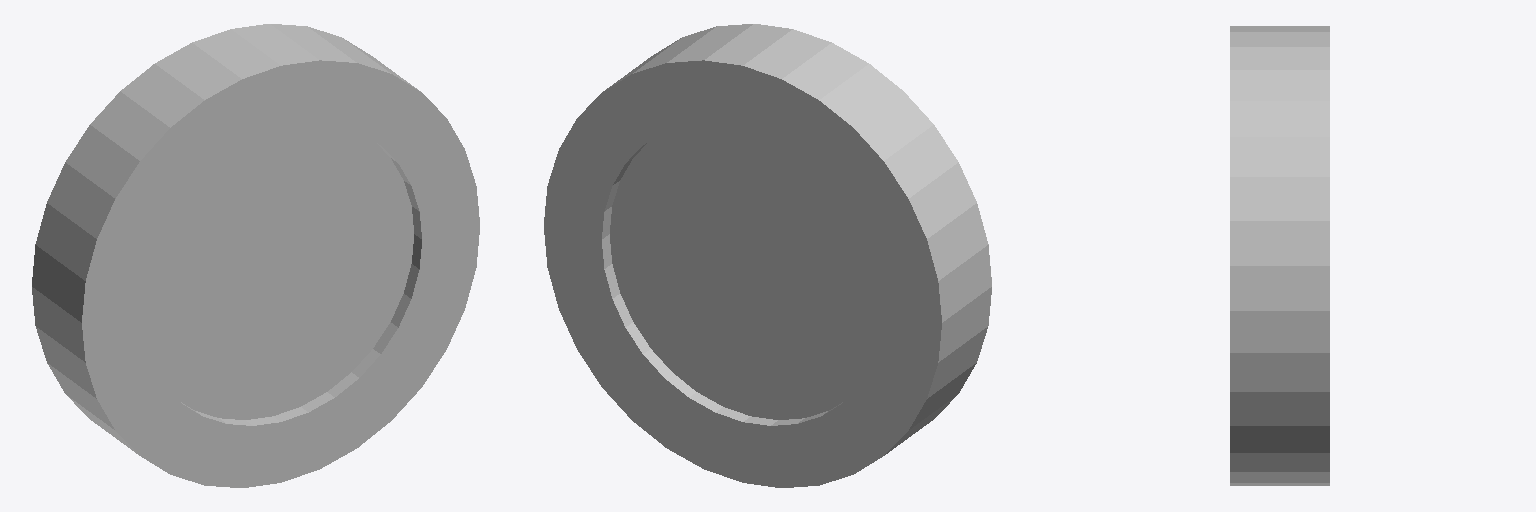
The model's file is coin.obj.
3 renders of one model, left to right at view 1: azimuth 30°, elevation 25°; view 2: azimuth 150°, elevation 25°; view 3: azimuth 270°, elevation 25°, orthographic.
Parts seen in each view (by area): view 1: coin; view 2: coin; view 3: coin.
Boxes of the visible parts, x1,y1,x2,y2 form: coin: [32, 24, 479, 487]; coin: [544, 24, 991, 487]; coin: [1230, 26, 1329, 485].
Size of the model in its own units: 0.4011 by 0.4011 by 0.0875.